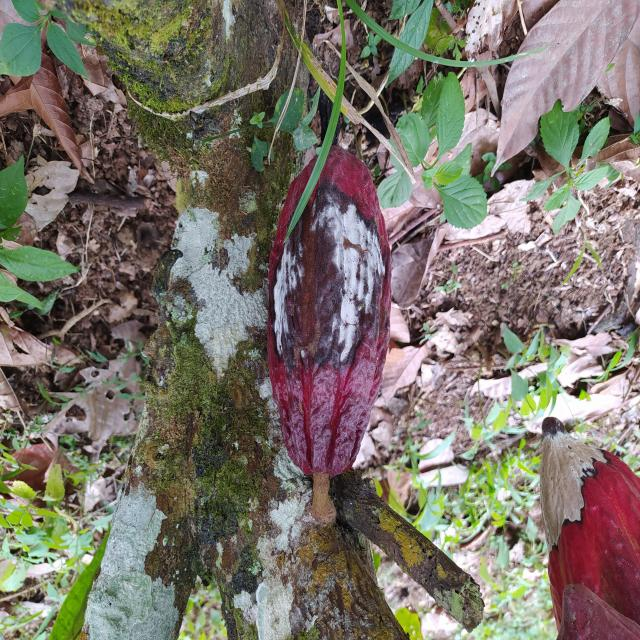Monilia: (264, 142, 396, 478), (539, 413, 640, 639)
Sana: (558, 586, 640, 638)
